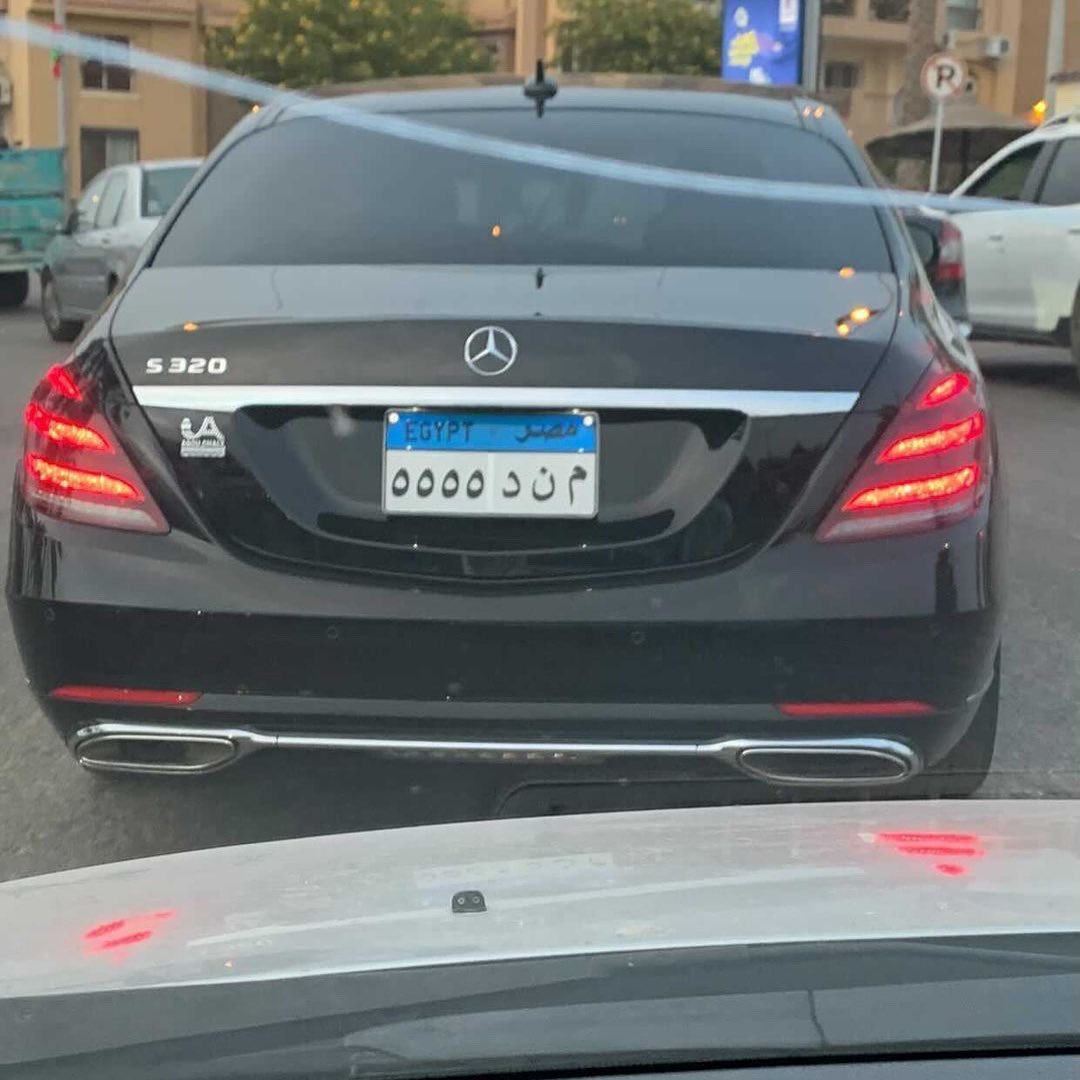carpl: (378, 403, 597, 527)
